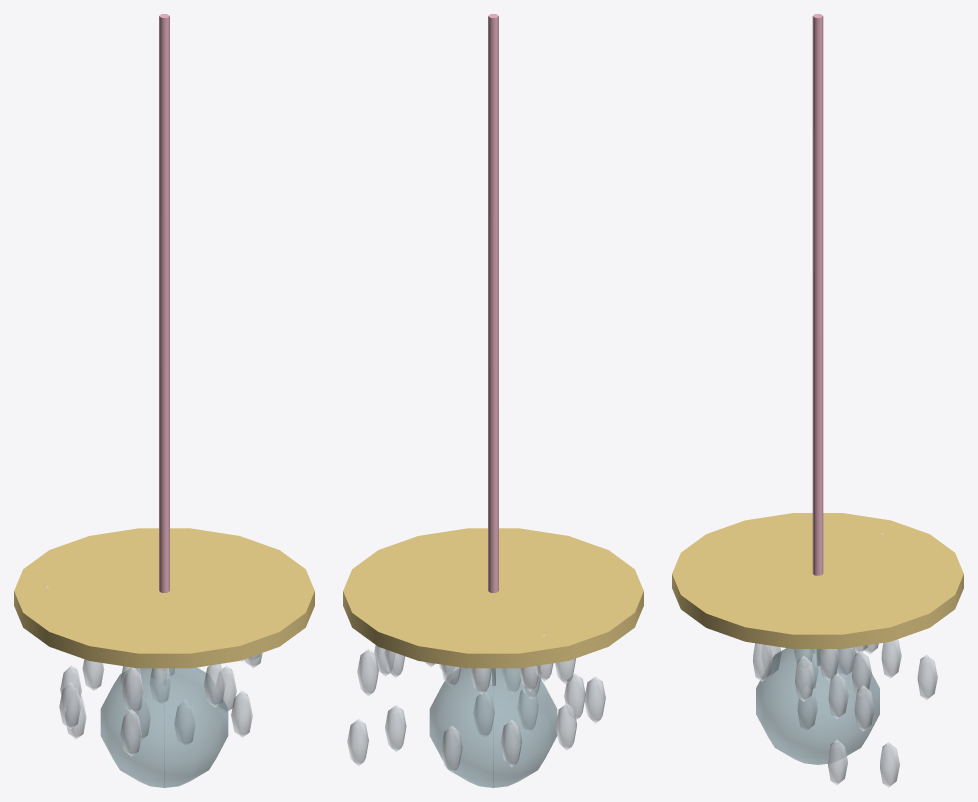
File: chandelier_crystals.glb
3 views of the same model, side by side, from view 1: azimuth 30°, elevation 25°; view 2: azimuth 150°, elevation 25°; view 3: azimuth 270°, elevation 25° (orthographic). The views are drawn at different scales.
Visible parts, largest first — view 1: chandelier_crystals; view 2: chandelier_crystals; view 3: chandelier_crystals.
Boxes of the visible parts, x1,y1,x2,y2 form: chandelier_crystals: (14,14,314,787); chandelier_crystals: (343,14,643,787); chandelier_crystals: (672,14,963,787).
Bounding box in the file's own units: 1.08 × 3.09 × 1.1.
